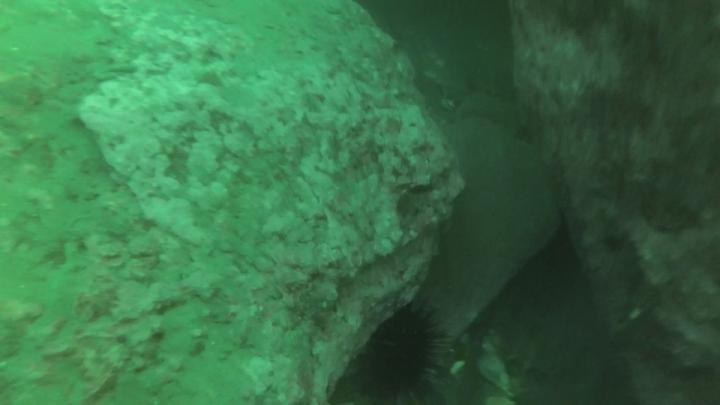echinus: (355, 300, 449, 400)
